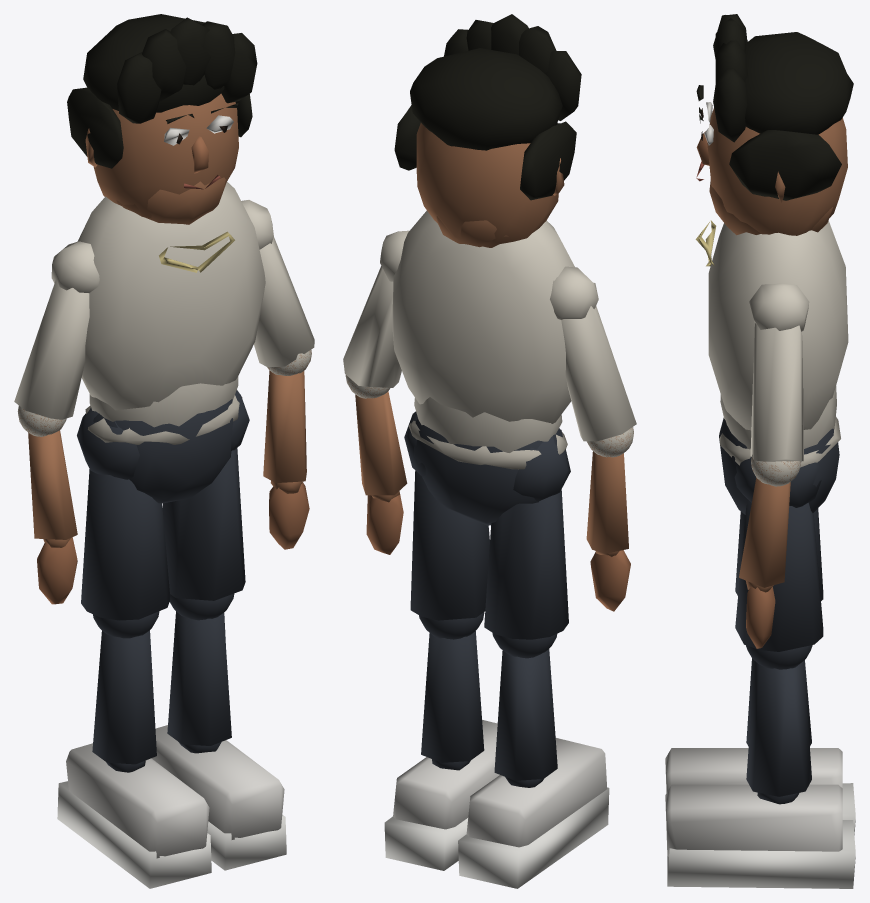
File: slim_hero_reference.glb
3 views of the same model, side by side, from view 1: azimuth 30°, elevation 25°; view 2: azimuth 150°, elevation 25°; view 3: azimuth 270°, elevation 25° (orthographic). The views are drawn at different scales.
Visible parts, largest first — view 1: Sole_L; view 2: Sole_L; view 3: Sole_L.
Boxes of the visible parts, x1,y1,x2,y2 form: Sole_L: (14, 14, 314, 888); Sole_L: (343, 14, 636, 888); Sole_L: (665, 14, 855, 888).
Size of the model in its own units: 1.04 by 2.86 by 0.5902.
